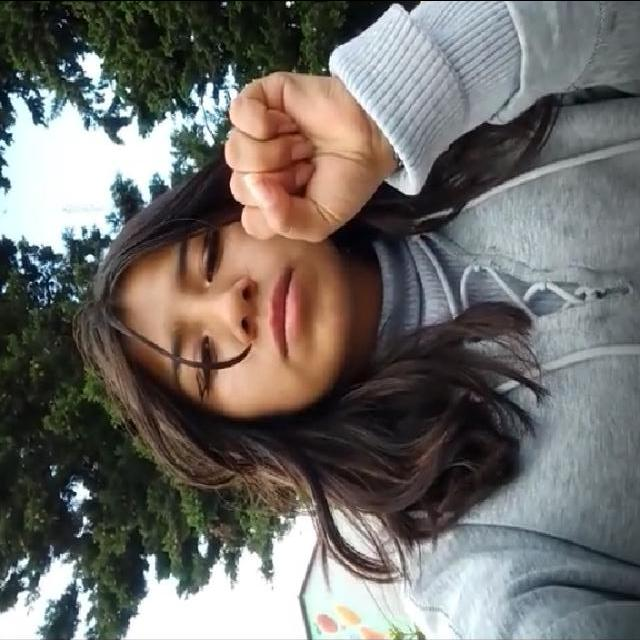S: (214, 61, 406, 258)
